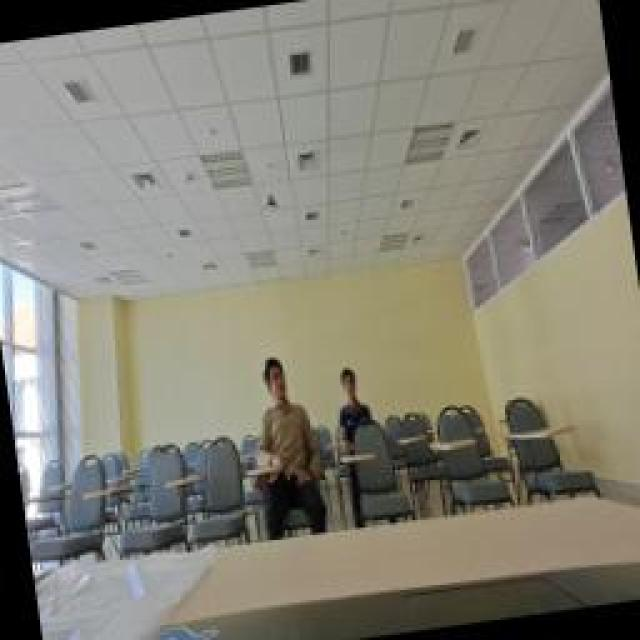study: (238, 348, 332, 542), (327, 360, 375, 460)
